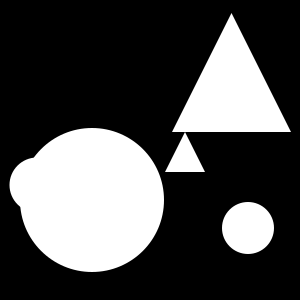rectangle: (20, 128, 164, 272), (10, 158, 64, 212), (222, 202, 274, 254)
triangle: (172, 13, 291, 132), (165, 132, 205, 172)
